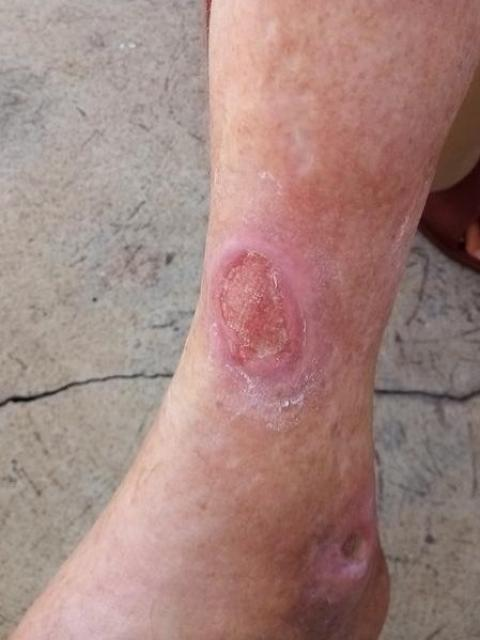wound: (212, 245, 309, 372), (332, 520, 378, 579)
